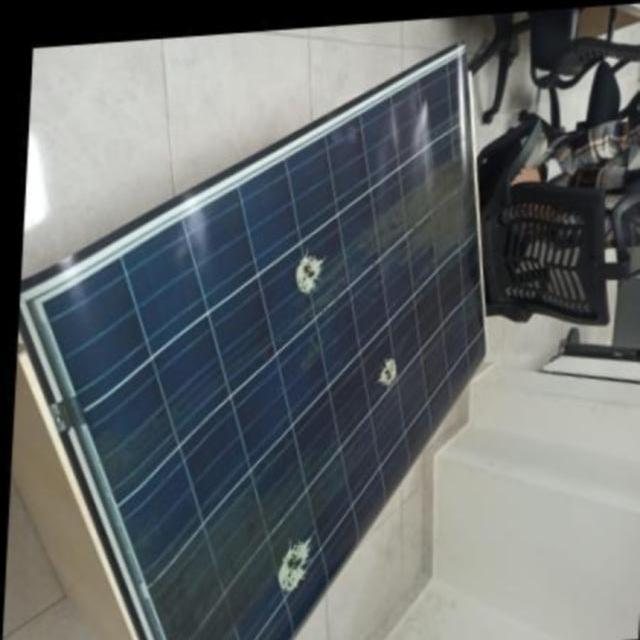soiled: (24, 42, 483, 638)
